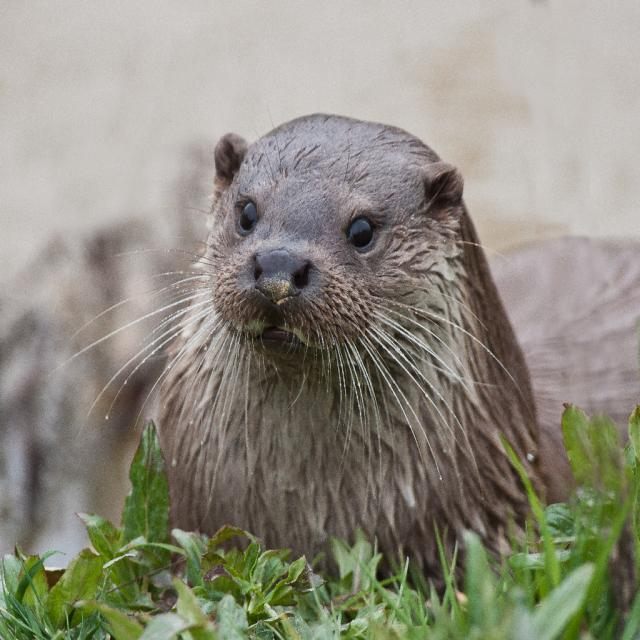otter: (149, 116, 539, 578)
